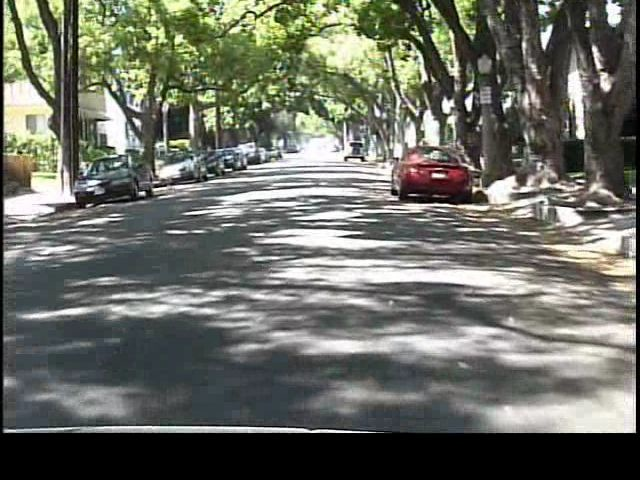person: (143, 143, 163, 185)
